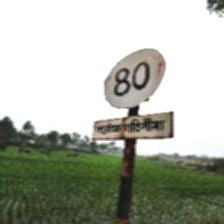Speed-limit: (94, 46, 172, 141)
